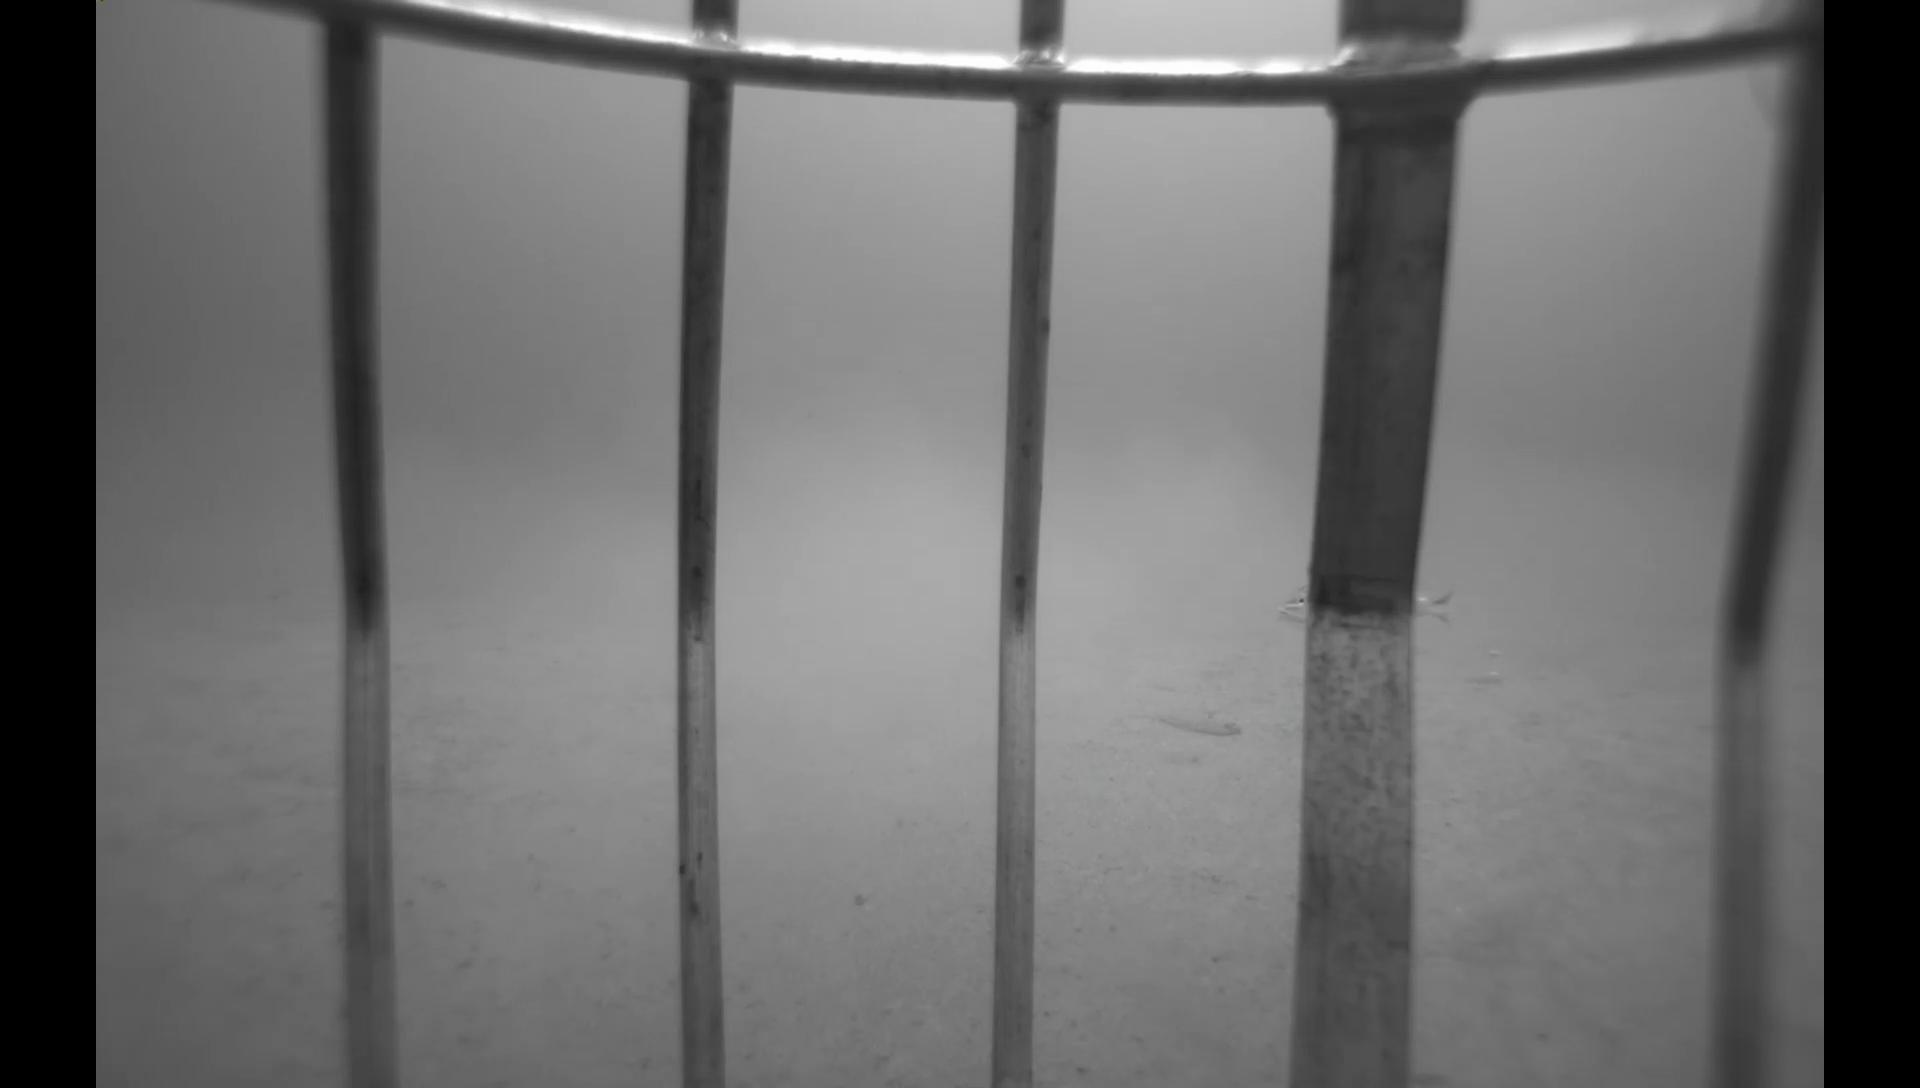CAULOLATILUSCYANOPS-170070101: (1265, 572, 1470, 642)
SYACIUM-183011000: (1145, 700, 1251, 742)
